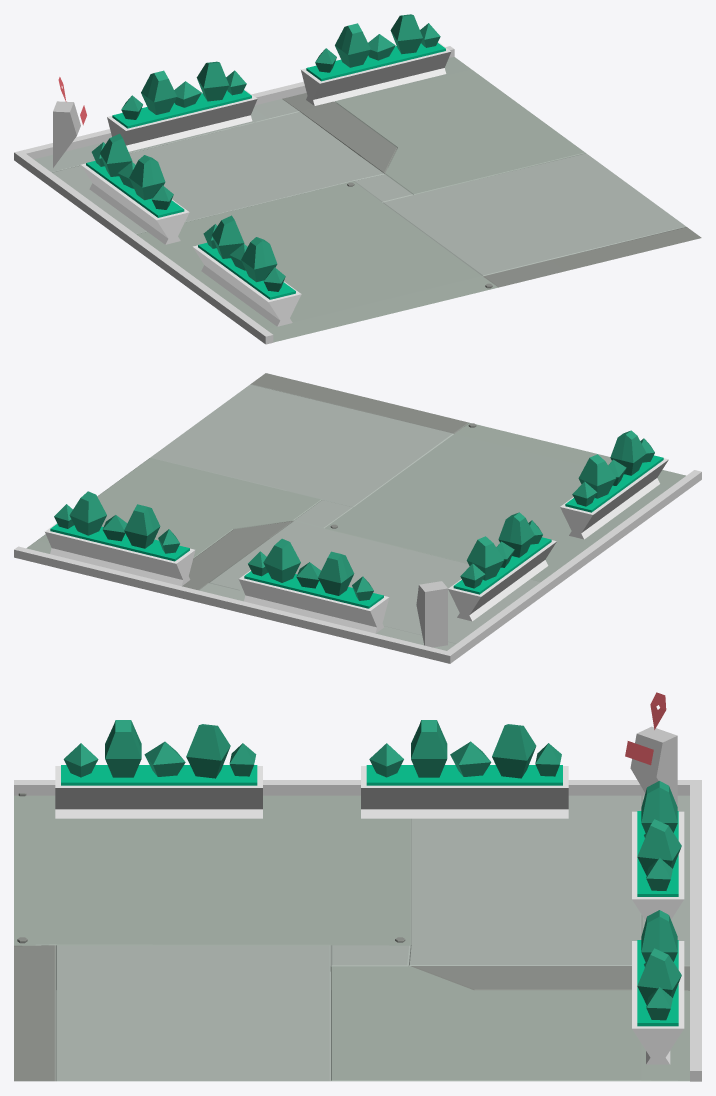
3 views of the same model, one above another, from view 1: azimuth 30°, elevation 25°; view 2: azimuth 150°, elevation 25°; view 3: azimuth 270°, elevation 25° (orthographic). The views are drawn at different scales.
Parts seen in each view (by area): view 1: Scifi_Panel_04_Plaza014_group4.026, base_pot.014, base_pot.015, base_pot.017, base_pot.016, Cube.1037_Cube.1161, panel.008; view 2: Scifi_Panel_04_Plaza014_group4.026, Cube.1037_Cube.1161, base_pot.015, base_pot.014, base_pot.017, base_pot.016, panel.008; view 3: Scifi_Panel_04_Plaza014_group4.026, base_pot.017, base_pot.016, Cube.1037_Cube.1161, base_pot.014, base_pot.015, panel.008.
Boxes of the visible parts, x1=… form: Scifi_Panel_04_Plaza014_group4.026: x1=34, y1=57, x2=701, y2=342; base_pot.014: x1=301, y1=14, x2=451, y2=105; base_pot.015: x1=107, y1=61, x2=257, y2=151; base_pot.017: x1=81, y1=133, x2=189, y2=244; base_pot.016: x1=193, y1=215, x2=301, y2=326; Cube.1037_Cube.1161: x1=14, y1=46, x2=454, y2=344; panel.008: x1=53, y1=77, x2=86, y2=167; Scifi_Panel_04_Plaza014_group4.026: x1=26, y1=373, x2=685, y2=650; Cube.1037_Cube.1161: x1=14, y1=470, x2=701, y2=663; base_pot.015: x1=238, y1=538, x2=389, y2=633; base_pot.014: x1=45, y1=491, x2=195, y2=586; base_pot.017: x1=448, y1=512, x2=556, y2=621; base_pot.016: x1=560, y1=430, x2=668, y2=539; panel.008: x1=416, y1=581, x2=447, y2=647; Scifi_Panel_04_Plaza014_group4.026: x1=14, y1=793, x2=689, y2=1081; base_pot.017: x1=361, y1=720, x2=568, y2=818; base_pot.016: x1=55, y1=720, x2=262, y2=818; Cube.1037_Cube.1161: x1=14, y1=780, x2=701, y2=1081; base_pot.014: x1=632, y1=910, x2=684, y2=1064; base_pot.015: x1=632, y1=781, x2=684, y2=920; panel.008: x1=625, y1=692, x2=677, y2=806.
Bounding box in the file's own units: 10 × 1.89 × 10.
